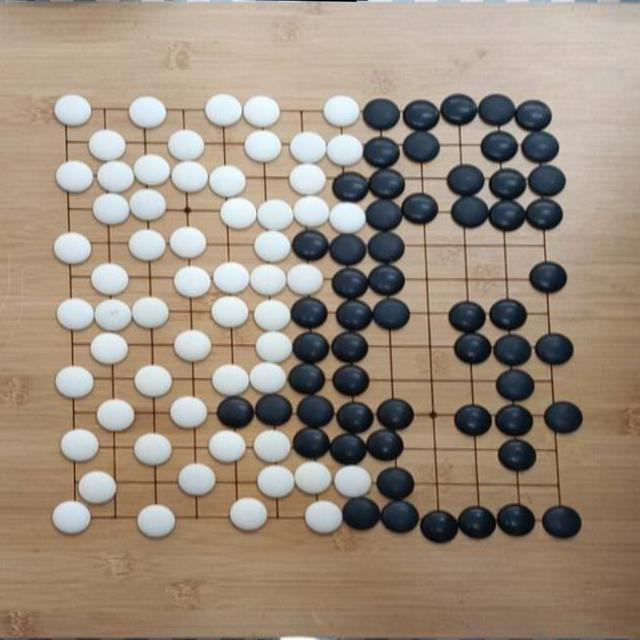blackstone: (342, 496, 382, 532), (542, 504, 582, 540), (420, 509, 460, 544), (497, 503, 536, 538), (450, 195, 490, 229), (544, 401, 584, 435), (380, 500, 420, 534), (255, 392, 293, 427), (376, 467, 415, 501), (296, 395, 335, 429), (458, 506, 497, 540), (526, 198, 564, 232), (365, 198, 403, 232), (328, 233, 366, 267), (528, 163, 566, 197), (448, 300, 487, 333), (495, 369, 534, 402), (495, 404, 534, 437), (529, 261, 568, 294), (521, 130, 560, 163), (366, 429, 405, 462), (498, 439, 537, 472), (447, 164, 485, 197), (488, 167, 526, 200), (376, 398, 414, 431), (367, 231, 405, 264), (372, 298, 410, 331), (216, 396, 254, 429), (362, 98, 400, 131), (493, 334, 532, 366), (454, 404, 493, 436), (535, 333, 574, 365), (291, 332, 330, 364), (292, 428, 331, 460), (329, 434, 368, 466), (403, 130, 440, 163), (490, 299, 528, 331), (454, 333, 492, 365), (290, 298, 328, 330), (332, 365, 370, 397), (292, 230, 330, 262), (288, 363, 326, 395), (362, 136, 400, 168), (478, 94, 516, 126), (332, 268, 369, 300), (332, 332, 369, 364), (489, 200, 526, 232), (481, 131, 518, 163), (336, 402, 373, 434), (368, 265, 406, 296), (335, 300, 373, 331), (440, 94, 478, 125), (515, 100, 553, 131), (332, 171, 369, 202), (368, 168, 406, 198), (402, 193, 438, 224), (403, 100, 440, 130)
whitestone: (77, 469, 116, 505), (90, 262, 130, 297), (304, 500, 344, 535), (52, 500, 92, 535), (133, 432, 172, 467), (60, 428, 99, 463), (168, 226, 207, 261), (256, 464, 295, 499), (334, 464, 373, 499), (90, 332, 130, 366), (54, 365, 94, 399), (177, 463, 217, 497), (229, 498, 269, 532), (136, 504, 176, 538), (129, 188, 167, 223), (254, 429, 292, 464), (212, 261, 250, 296), (96, 398, 135, 432), (134, 364, 173, 398), (128, 228, 167, 262), (94, 298, 133, 332), (53, 232, 92, 266), (55, 160, 94, 194), (171, 160, 210, 194), (294, 462, 333, 496), (96, 160, 135, 194), (133, 154, 172, 188), (128, 96, 168, 129), (56, 298, 94, 332), (174, 265, 212, 299), (211, 295, 249, 329), (92, 192, 130, 226), (249, 361, 287, 395), (292, 195, 330, 229), (289, 163, 327, 197), (243, 94, 281, 128), (323, 94, 361, 128), (54, 93, 92, 127), (131, 296, 170, 329), (208, 430, 247, 463), (254, 298, 291, 332), (250, 263, 287, 297), (174, 329, 212, 362), (170, 396, 208, 429), (212, 364, 250, 397), (254, 230, 292, 263), (255, 330, 293, 363), (220, 197, 258, 230), (209, 165, 247, 198), (88, 129, 126, 162), (256, 199, 294, 232), (287, 263, 324, 296), (329, 201, 366, 234), (245, 130, 282, 163), (205, 93, 242, 126), (326, 134, 364, 166), (168, 130, 205, 162), (290, 132, 327, 164)
